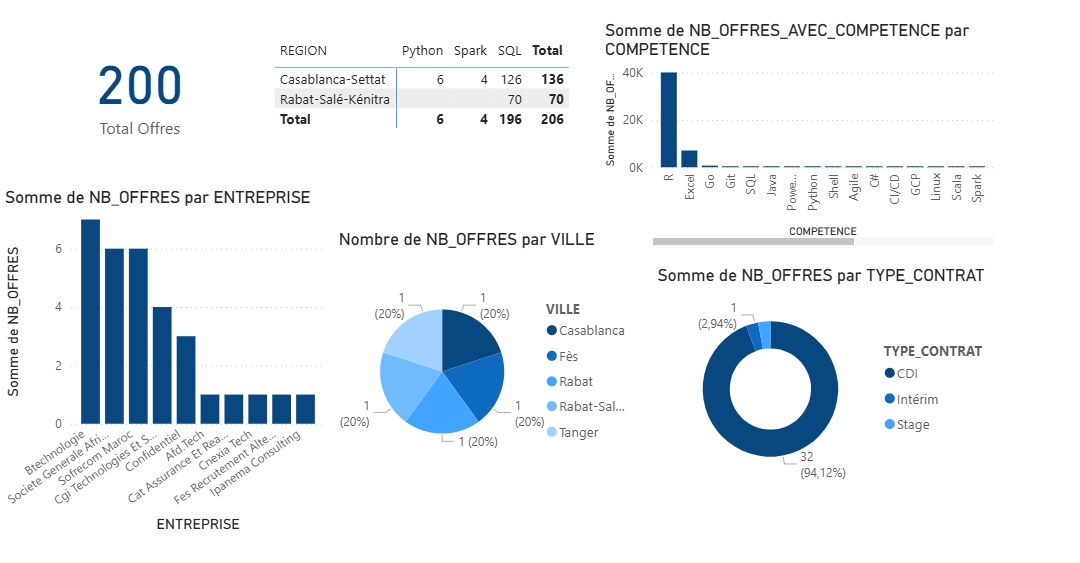

Layout of this report page (visuals, bound fields, positions):
{"tool":"powerbi","page":{"name":"Page 1","canvas":[1280,720],"ordinal":0},"visuals":[{"type":"clusteredBarChart","fields":{"Category":["2_top_competences.COMPETENCE"],"Y":["Sum(2_top_competences.NB_OFFRES_AVEC_COMPETENCE)"]},"box":[600,61.2,398.8,230],"z":0},{"type":"pieChart","fields":{"Category":["3_offres_par_ville.VILLE"],"Y":["CountNonNull(3_offres_par_ville.NB_OFFRES)"]},"box":[333.8,270,306.2,266.2],"z":1},{"type":"clusteredColumnChart","fields":{"Category":["6_top_10_entreprises.ENTREPRISE"],"Y":["Sum(6_top_10_entreprises.NB_OFFRES)"]},"box":[0,227.5,330,351.2],"z":3},{"type":"card","fields":{"Values":["CountNonNull(1_toutes_offres_tech.TITRE)"]},"box":[0,61.2,280,137.5],"z":4},{"type":"pivotTable","fields":{"Rows":["7_competences_par_region.REGION"],"Columns":["7_competences_par_region.COMPETENCE"],"Values":["Sum(7_competences_par_region.NB_OFFRES)"]},"box":[270,75,307.5,123.8],"z":5},{"type":"donutChart","fields":{"Category":["4_offres_par_contrat.TYPE_CONTRAT"],"Y":["Sum(4_offres_par_contrat.NB_OFFRES)"]},"box":[652.5,306.2,346.2,228.8],"z":6}]}

Visuals, with their boxes on the page's 1280x720 design canvas (x1, y1, x2, y2). These are canvas units, not pixel positions in the 1080x563 screenshot, which may show the page scaled, cropped or inside an application window:
clusteredBarChart - 2_top_competences.COMPETENCE x Sum(2_top_competences.NB_OFFRES_AVEC_COMPETENCE): 600,61,999,291
pieChart - 3_offres_par_ville.VILLE x CountNonNull(3_offres_par_ville.NB_OFFRES): 334,270,640,536
clusteredColumnChart - 6_top_10_entreprises.ENTREPRISE x Sum(6_top_10_entreprises.NB_OFFRES): 0,228,330,579
card - CountNonNull(1_toutes_offres_tech.TITRE): 0,61,280,199
pivotTable - 7_competences_par_region.REGION x 7_competences_par_region.COMPETENCE: 270,75,578,199
donutChart - 4_offres_par_contrat.TYPE_CONTRAT x Sum(4_offres_par_contrat.NB_OFFRES): 652,306,999,535
